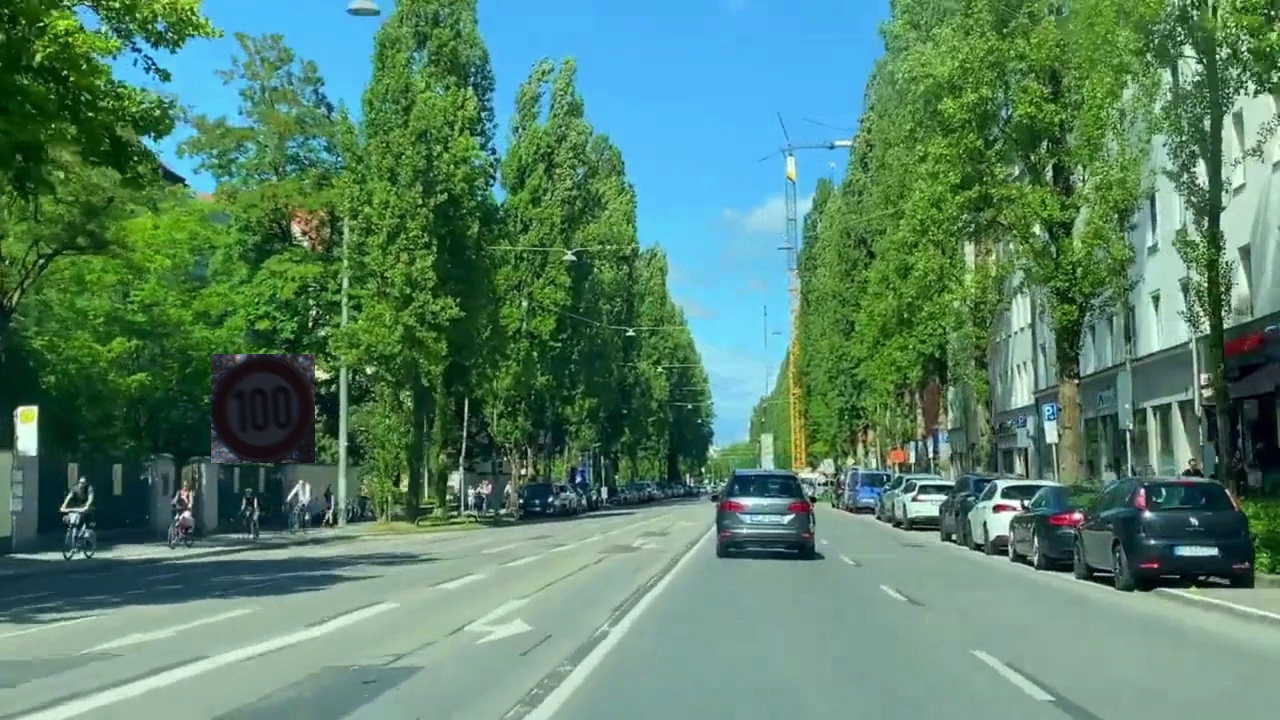Speed 100: (211, 354, 315, 463)
